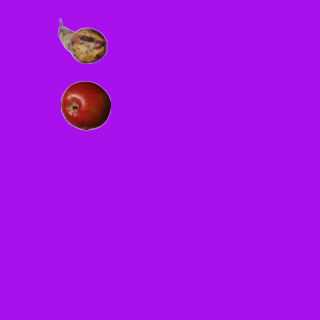Apple Braeburn: (60, 80, 110, 130)
Pear Abate: (57, 16, 107, 66)
